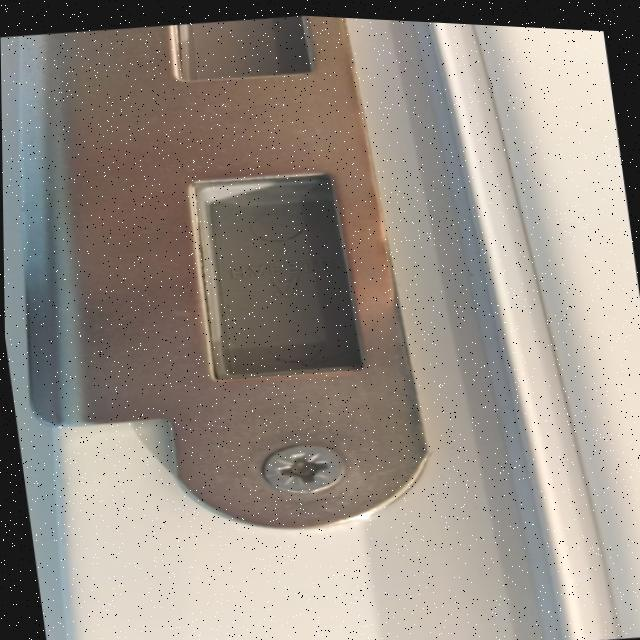Pozidriv: (244, 425, 359, 506)
